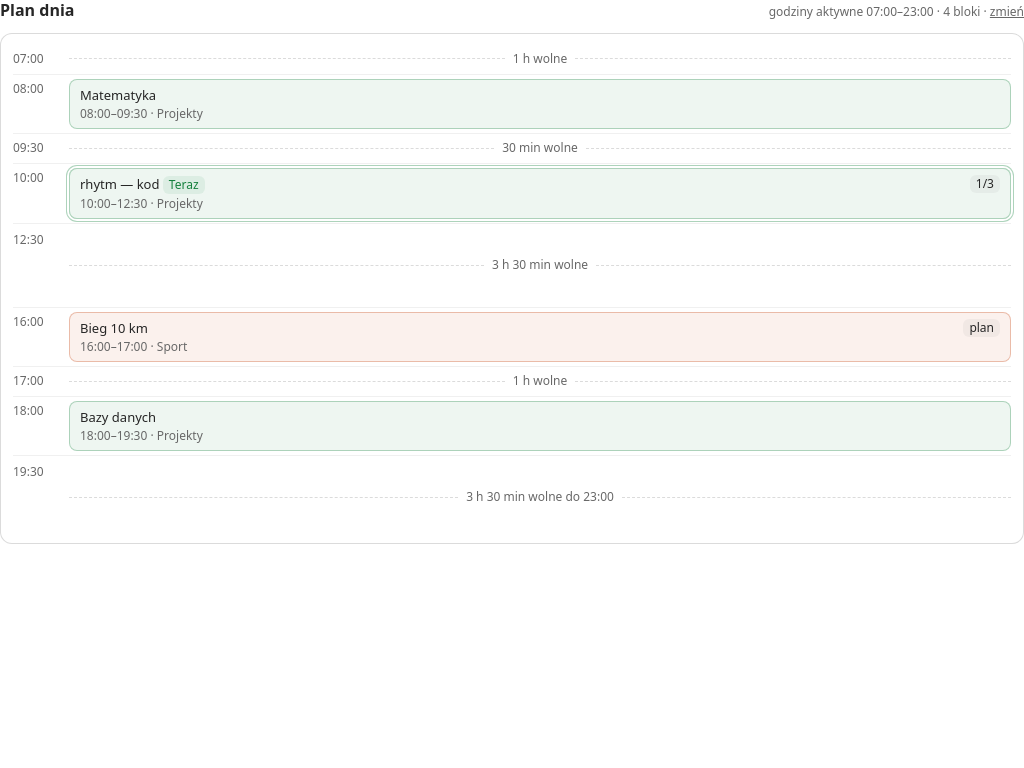
Test: DayPlan › „Usuń” bloku cyklicznego pyta o zakres, usuwa z oryginalną datą i odświeża plan
The image size is (1024, 768).
Click the button "Bazy danych18:00–19:30 · Projekty": (118, 417) [69, 401, 1011, 451]
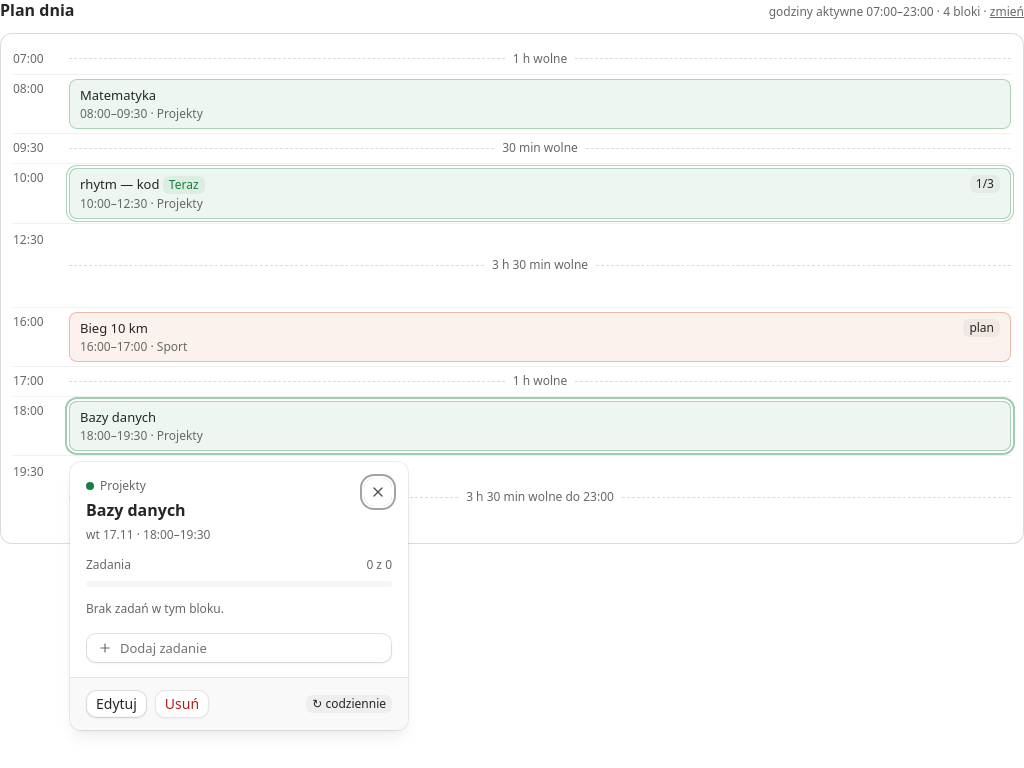
Click the button "Usuń": (182, 704) [155, 690, 209, 718]
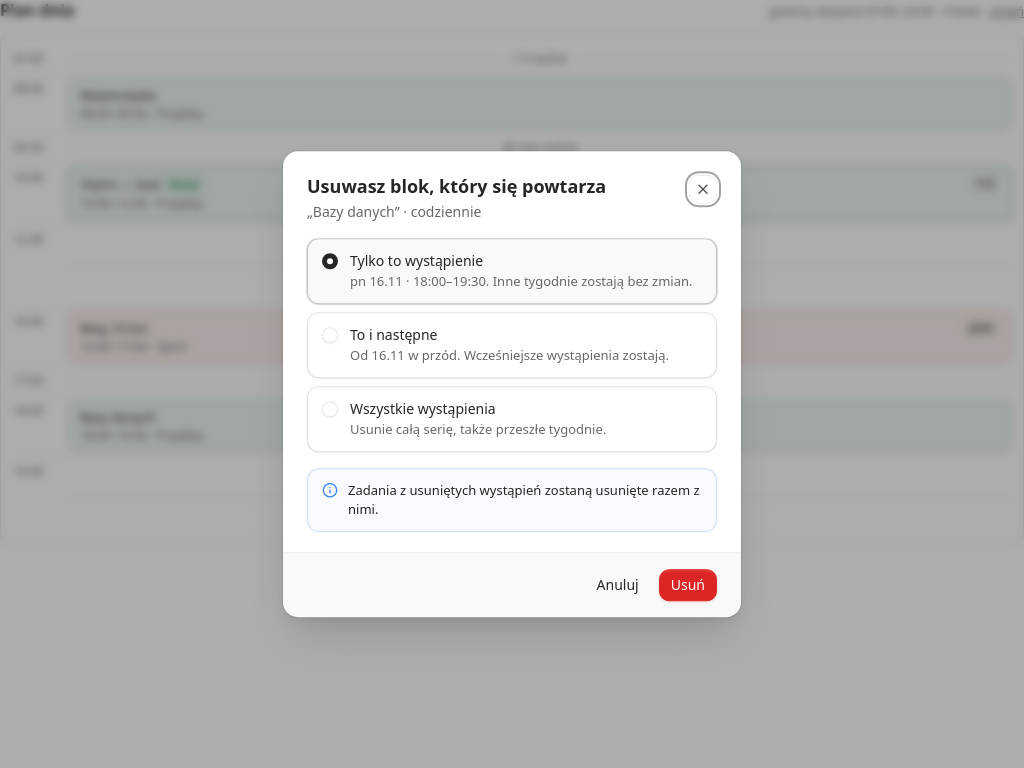
Click the radio button labelled "To i następne": (330, 336) [322, 328, 338, 344]
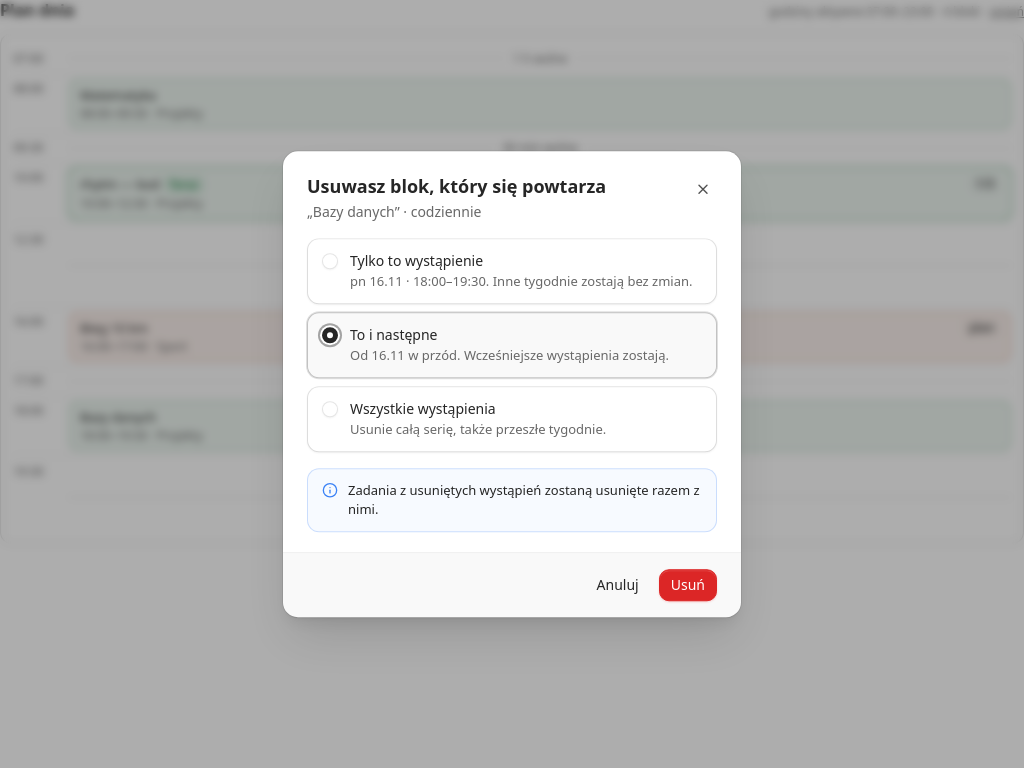
Click the button "Usuń": (688, 585) [659, 569, 717, 601]
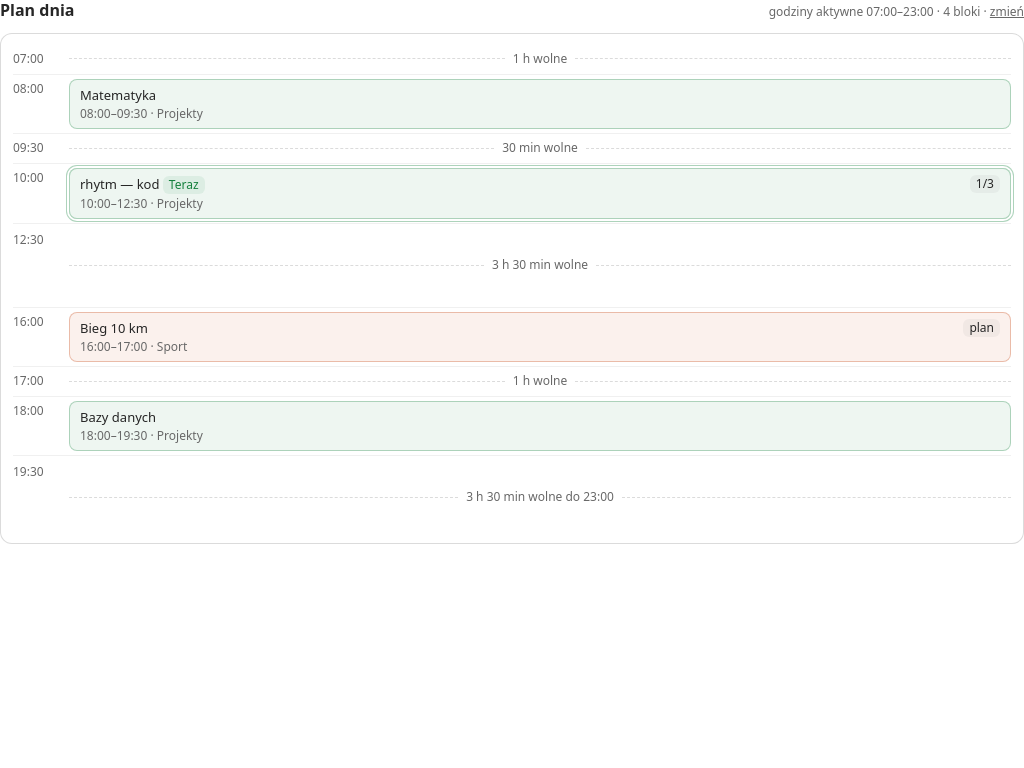
Expected: the heading "Usuwasz blok, który się powtarza" is gone
